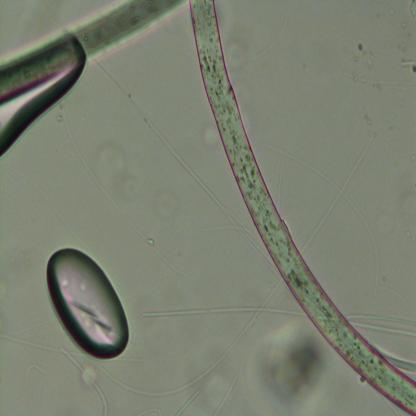Air bubble: (45, 248, 130, 358), (0, 71, 81, 160)
Background material: (254, 322, 329, 403), (102, 148, 138, 198), (355, 42, 380, 65), (202, 124, 218, 150), (410, 1, 416, 24)
Glass filter fibre: (89, 57, 260, 253), (61, 100, 197, 280), (100, 280, 283, 398), (258, 131, 381, 298), (299, 130, 378, 255), (57, 346, 112, 414), (139, 302, 306, 324), (0, 331, 88, 362), (342, 68, 416, 87), (349, 322, 416, 340), (210, 374, 238, 414), (345, 312, 416, 326), (275, 162, 289, 213), (175, 389, 201, 414), (383, 352, 416, 370), (22, 364, 50, 385), (139, 405, 163, 414), (400, 60, 416, 71)
Microfibre: (189, 1, 416, 415), (0, 2, 189, 102)
